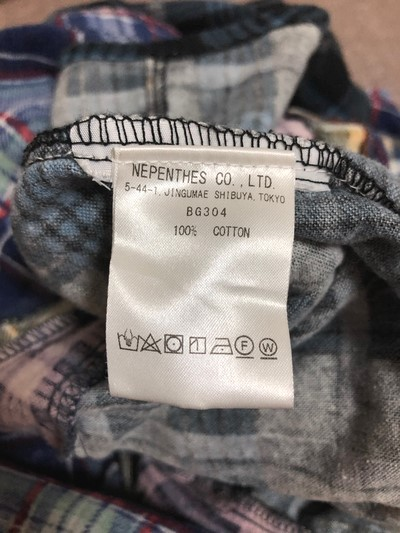ER_dry_clean_hydrocarbon_mild: (233, 334, 256, 363)
ER_flat_dry_in_shade: (188, 332, 209, 357)
ER_iron_low_temp: (210, 335, 234, 358)
ER_no_bleach: (139, 331, 162, 357)
ER_no_wash: (114, 328, 139, 353)
ER_tumble_dry_low_heat: (163, 331, 185, 356)
